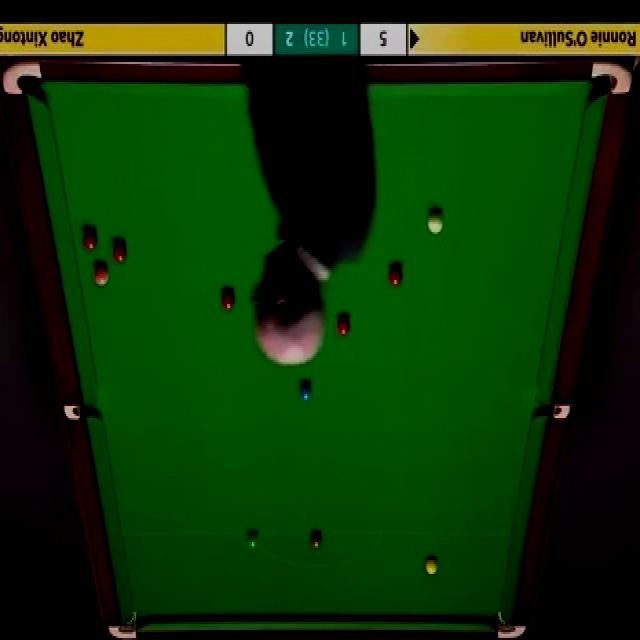blue-ball: (298, 382, 313, 403)
brown-ball: (310, 530, 323, 550)
green-ball: (246, 531, 258, 548)
pink-ball: (93, 262, 109, 288)
red-ball: (387, 261, 404, 288), (81, 228, 98, 251), (110, 240, 126, 264), (220, 288, 235, 312), (336, 314, 351, 336)
white-ball: (426, 210, 444, 234)
yellow-ball: (424, 554, 437, 575)
